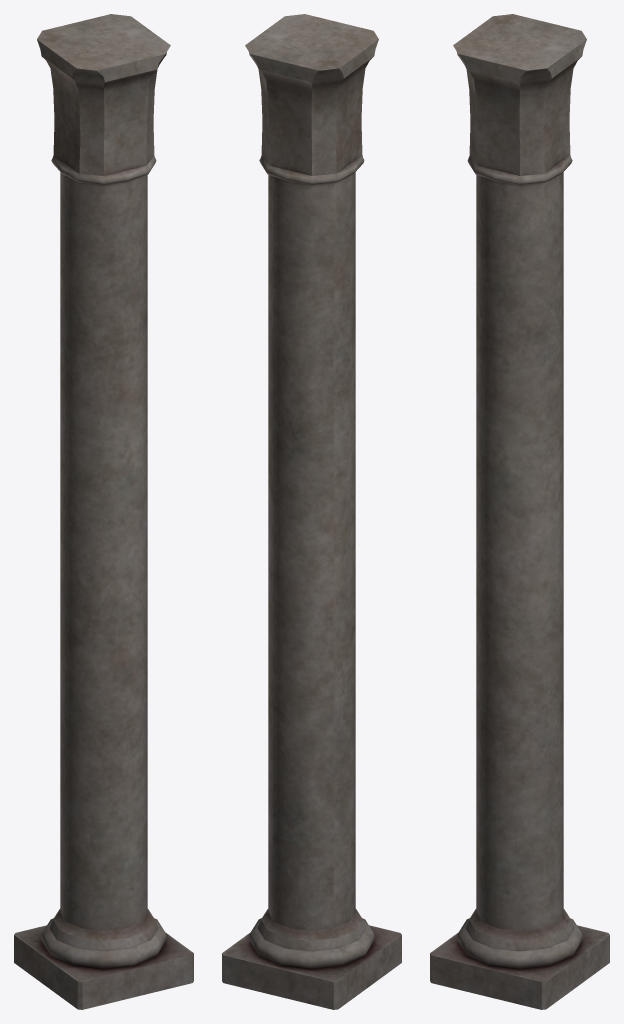
Rendered from sb_obj_outdoor009_AncientTemple_pillar02A.fbx.
The picture shows the model from 3 angles, left to right: view 1: azimuth 30°, elevation 25°; view 2: azimuth 150°, elevation 25°; view 3: azimuth 330°, elevation 25°; orthographic projection.
Visible parts, largest first — view 1: sb_obj_outdoor009_AncientTemple_pillar02A; view 2: sb_obj_outdoor009_AncientTemple_pillar02A; view 3: sb_obj_outdoor009_AncientTemple_pillar02A.
Boxes of the visible parts, box(x1,y1,x2,y2) form: sb_obj_outdoor009_AncientTemple_pillar02A: box(14, 14, 193, 1009); sb_obj_outdoor009_AncientTemple_pillar02A: box(222, 14, 401, 1009); sb_obj_outdoor009_AncientTemple_pillar02A: box(430, 14, 609, 1009).
Size of the model in its own units: 1.31 by 10.01 by 1.31.
